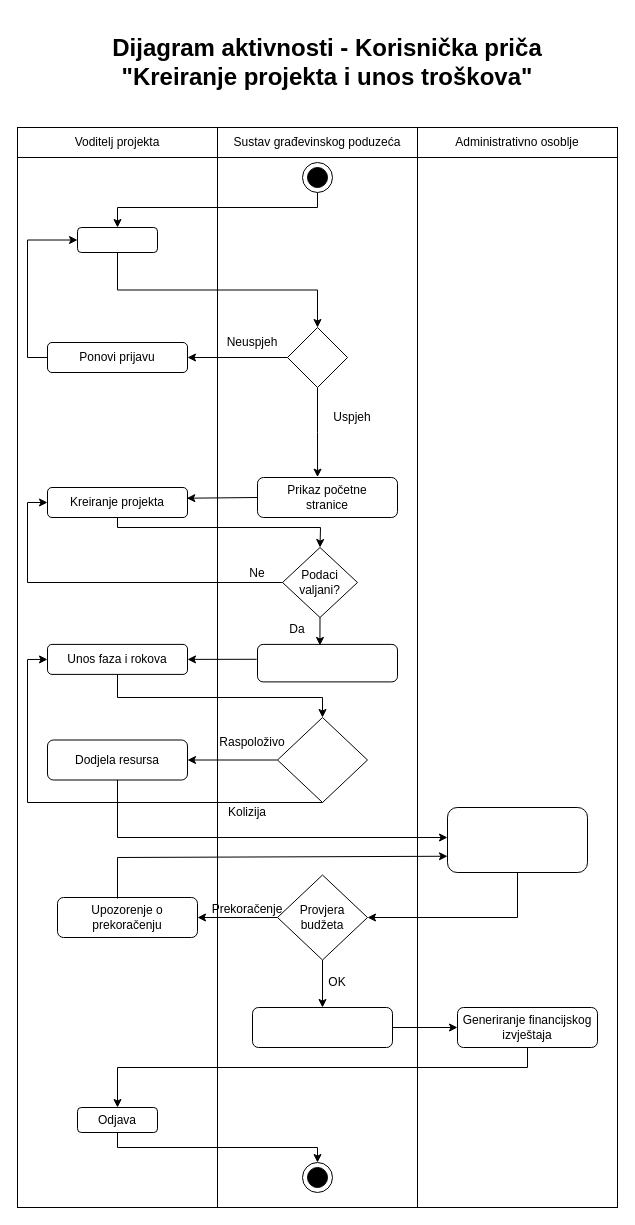
Image size: 635x1225. Some labels were removed from this diagram. The shapes that lost their labels are listed below. From the top down, each one's box as (x1, y1, x2, y2) in pixels, then its label:
(76, 226, 158, 252): Prijava u sustav
(286, 326, 348, 388): Provjera
(256, 643, 398, 682): Pohrana projekta u bazu
(276, 716, 368, 802): Provjera raspoloživosti resursa
(446, 806, 588, 872): Unos troškova po projektu
(252, 1006, 392, 1048): Pohrana troška u bazu
